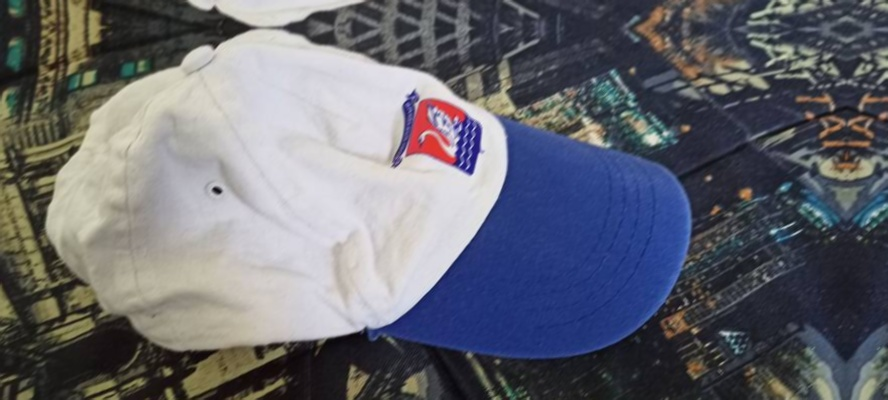Hat: (54, 27, 724, 381), (55, 0, 725, 29)
